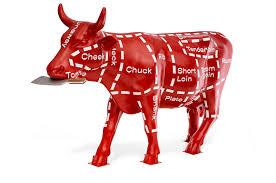cow: (47, 21, 232, 166)
